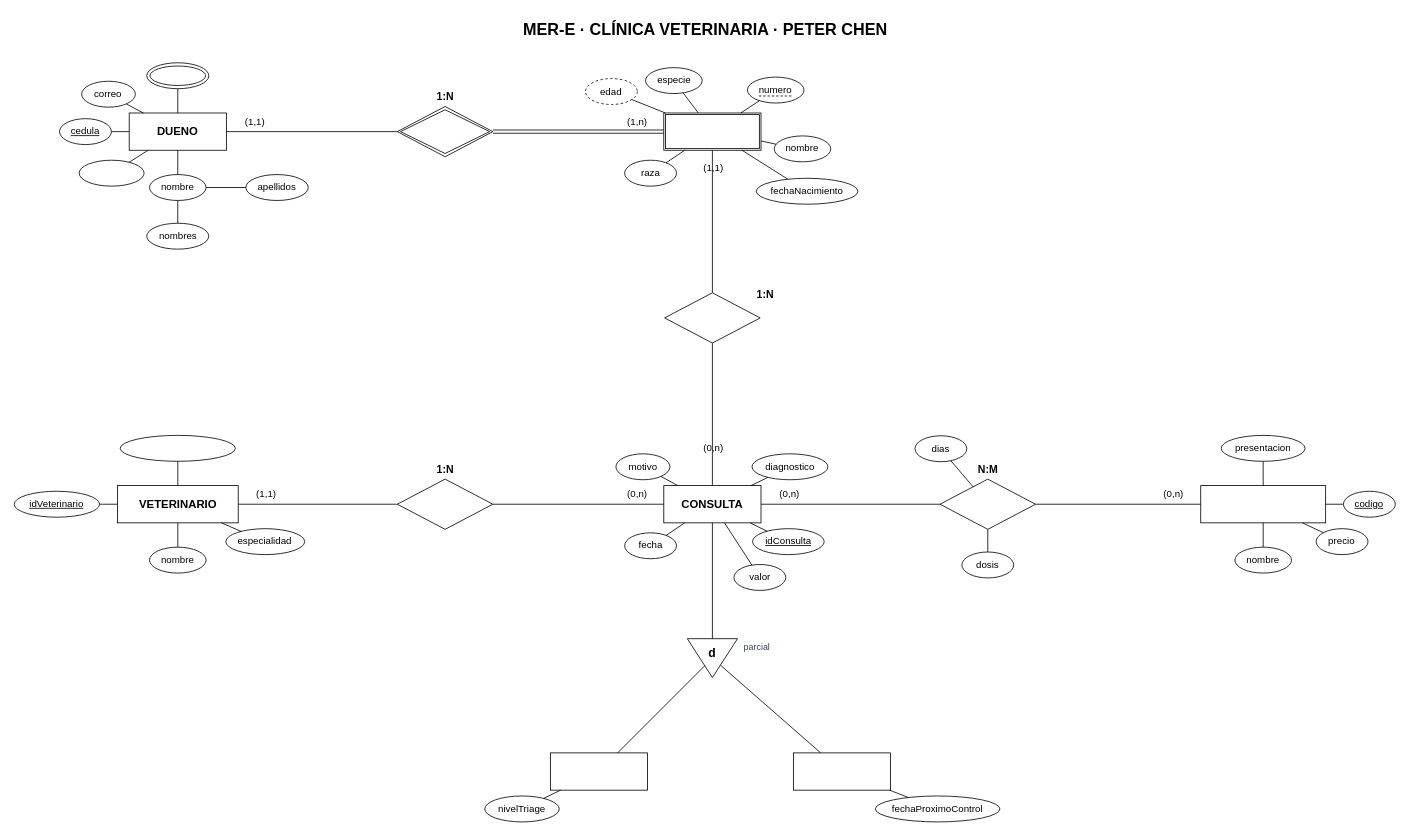
Image size: 1410x836. Some labels were removed from this diagram. Each missing label, with the centre of its shape:
"atender" goes at (444,503).
"CONTROL" goes at (842,771).
"direccion" goes at (111,172).
"MASCOTA" goes at (712,131).
"MEDICAMENTO" goes at (1263,504).
"recetar" goes at (987,503).
"recibir" goes at (712,317).
"tarjetaProfesional" goes at (177,448).
"telefono" goes at (177,75).
"tener" goes at (444,131).
"URGENCIA" goes at (599,771).
